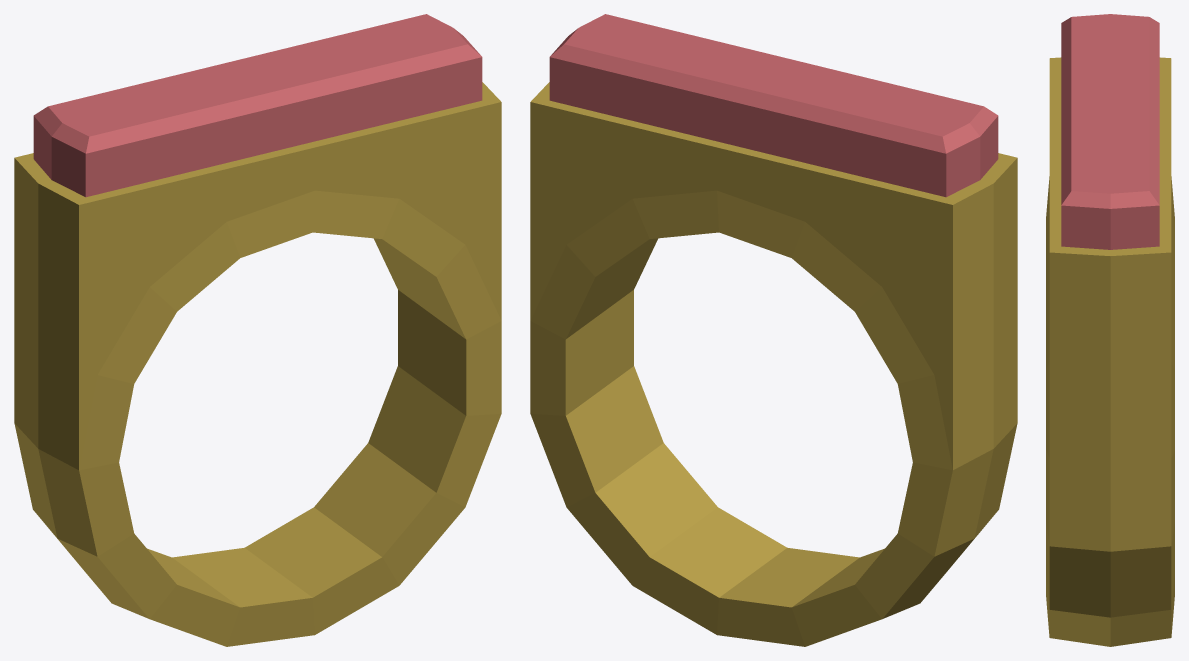
File: SM_Ring3.fbx
3 renders of one model, left to right at view 1: azimuth 30°, elevation 25°; view 2: azimuth 150°, elevation 25°; view 3: azimuth 270°, elevation 25°, orthographic. The views are drawn at different scales.
Parts seen in each view (by area): view 1: SM_Ring3; view 2: SM_Ring3; view 3: SM_Ring3.
Part boxes in pixels (x1,y1,x2,y2): SM_Ring3: [14, 14, 501, 646]; SM_Ring3: [530, 14, 1017, 646]; SM_Ring3: [1046, 14, 1174, 646].
Size of the model in its own units: 66.93 by 80.25 by 18.04.
